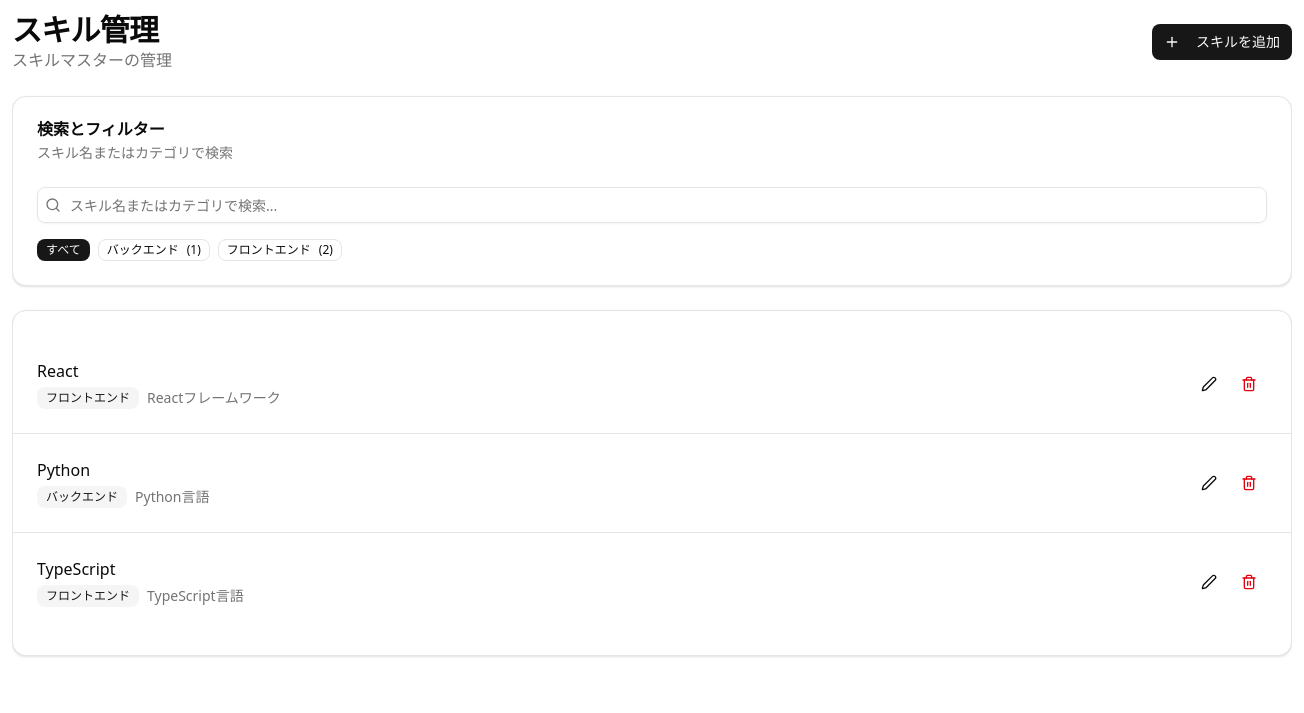
Test: Skills Component › 管理者の場合 › スキルを編集モードにできる
Expected: the text "React" is shown, [37,360,78,382]
Click the button named "編集" in the row of "Reactフレームワーク": (1209, 384) [1191,366,1227,402]
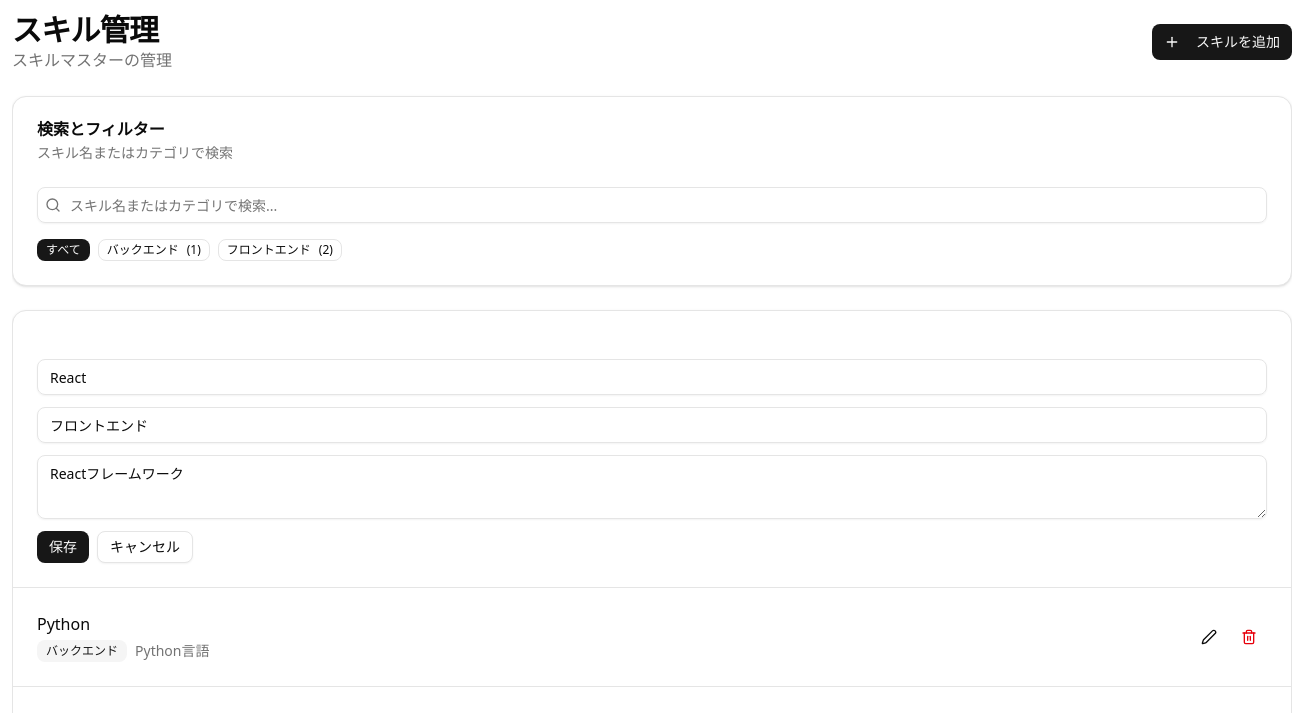
Expected: the 1st field showing "React" is shown, [37,359,1267,395]
Expected: the 2nd field showing "フロントエンド" is shown, [37,407,1267,443]
Expected: the button "保存" is shown, [37,531,89,563]
